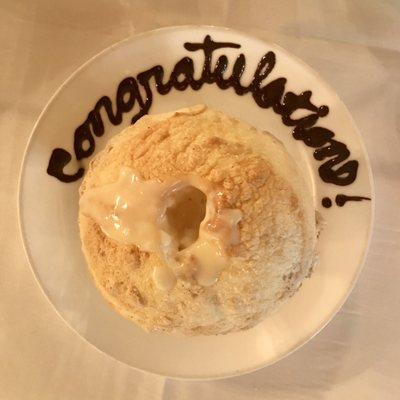salad: (77, 101, 322, 338)
